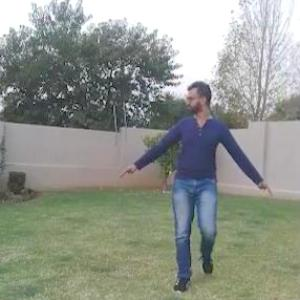land: (117, 79, 276, 287)
